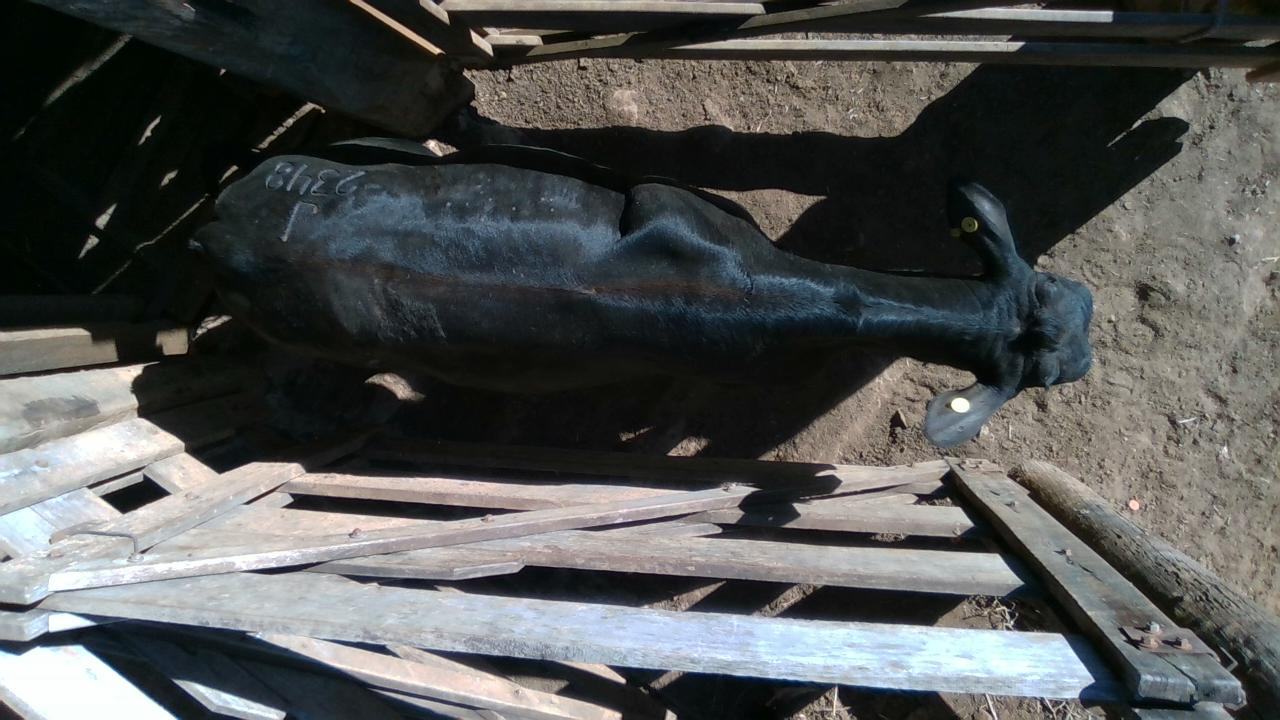cattle: (186, 142, 1094, 449)
